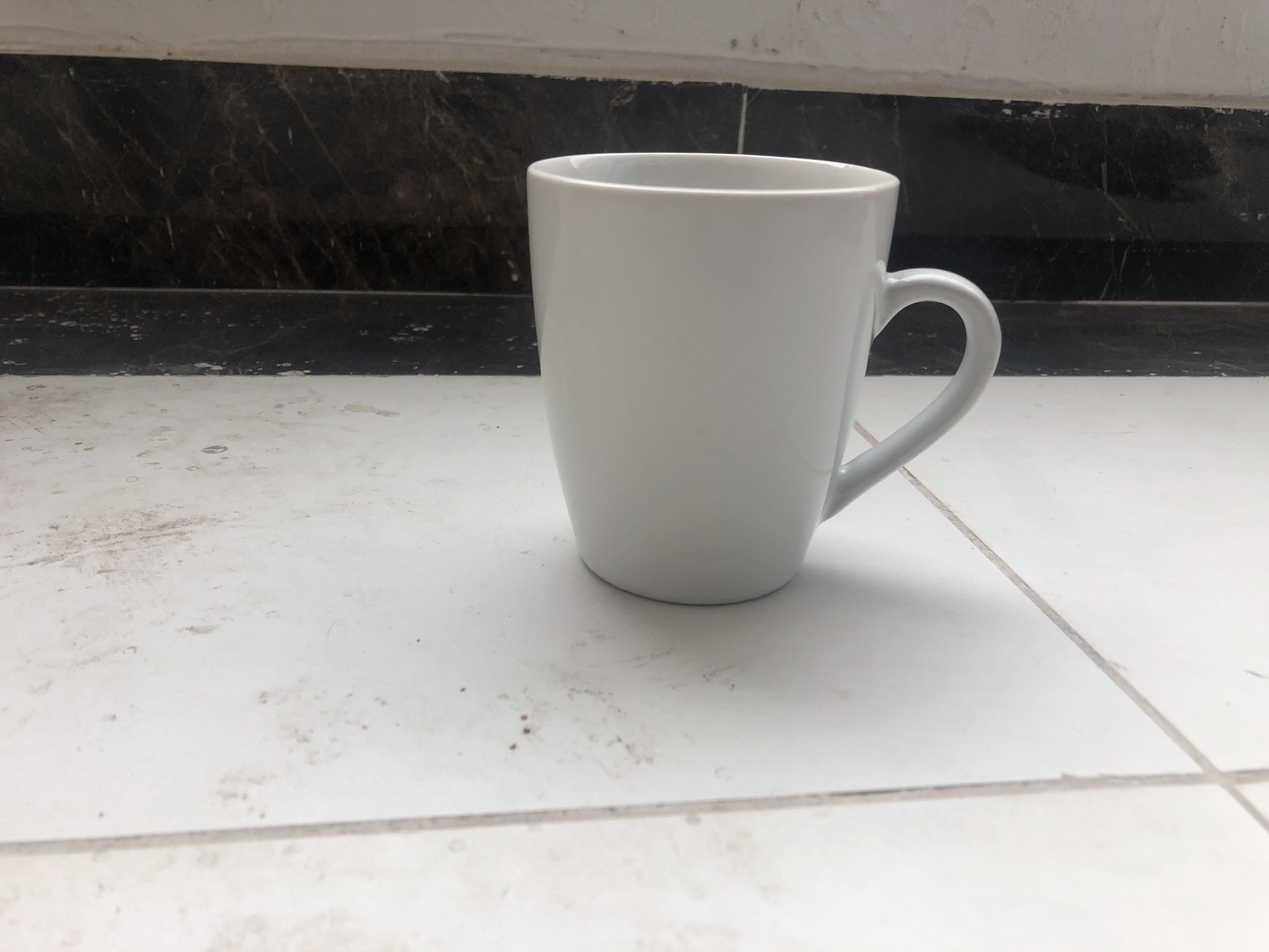cup-handle: (526, 149, 1005, 612)
